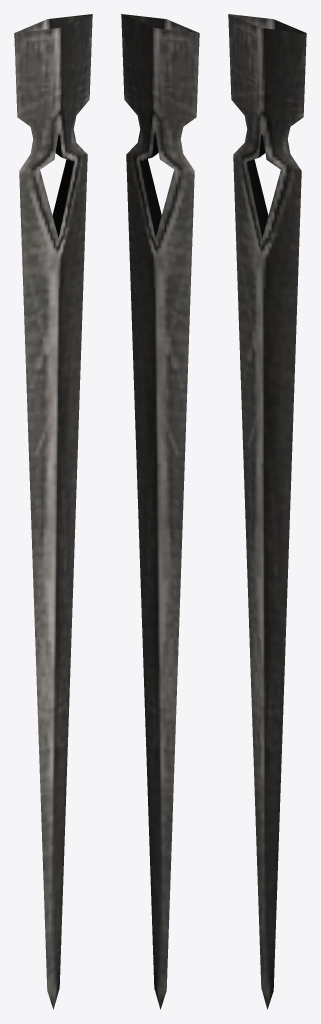
The model's file is Chuanjiabishou_body.FBX.
3 renders of one model, left to right at view 1: azimuth 30°, elevation 25°; view 2: azimuth 150°, elevation 25°; view 3: azimuth 330°, elevation 25°, orthographic.
Parts seen in each view (by area): view 1: chuanjiabishou_body; view 2: chuanjiabishou_body; view 3: chuanjiabishou_body.
Part boxes in pixels (x1,y1,x2,y2): chuanjiabishou_body: [14, 14, 92, 1009]; chuanjiabishou_body: [121, 14, 199, 1009]; chuanjiabishou_body: [228, 14, 306, 1009].
Size of the model in its own units: 6.72 by 80.81 by 1.8.
1 material, 1 textured.
